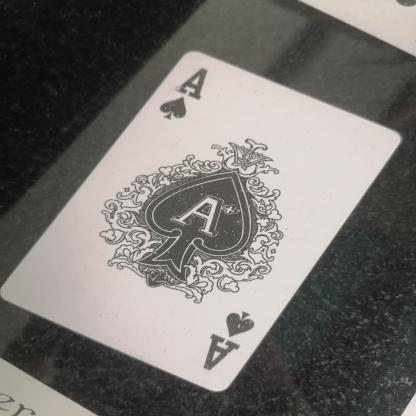AS: (193, 306, 277, 372), (157, 64, 213, 132)
